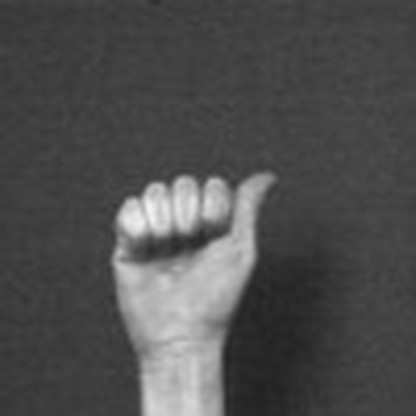a: (88, 152, 316, 410)
